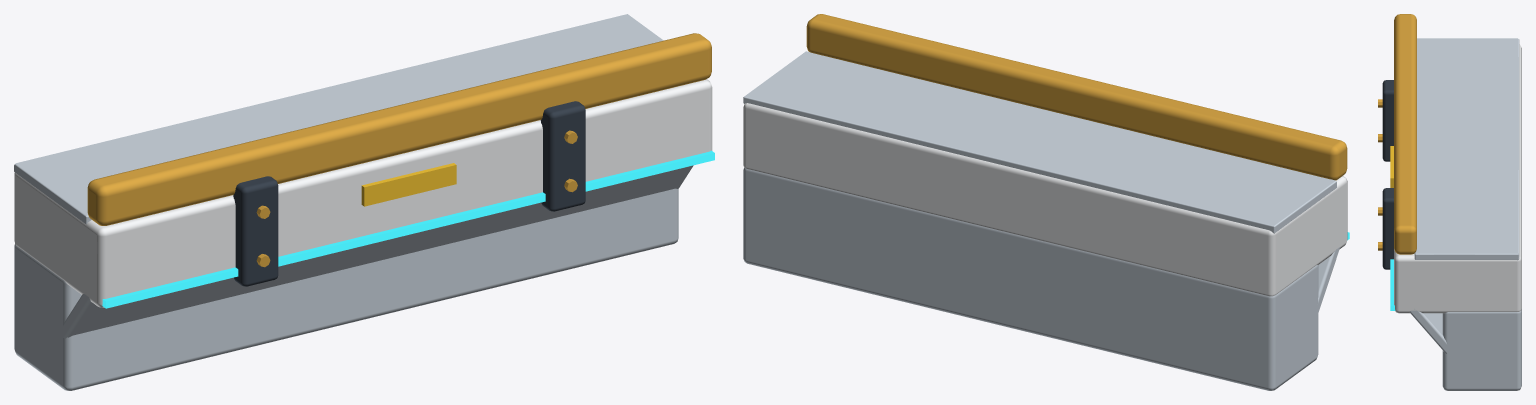
File: sky_island_rim.glb
The picture shows the model from 3 angles, left to right: view 1: azimuth 30°, elevation 25°; view 2: azimuth 150°, elevation 25°; view 3: azimuth 270°, elevation 25°; orthographic projection. The views are drawn at different scales.
Parts seen in each view (by area): view 1: sky_island_rim_body; view 2: sky_island_rim_body; view 3: sky_island_rim_body.
Part boxes in pixels (<box>): sky_island_rim_body: <box>14,14,714,390</box>; sky_island_rim_body: <box>743,14,1349,390</box>; sky_island_rim_body: <box>1378,14,1521,390</box>.
Size of the model in its own units: 4 by 1.42 by 1.12.
